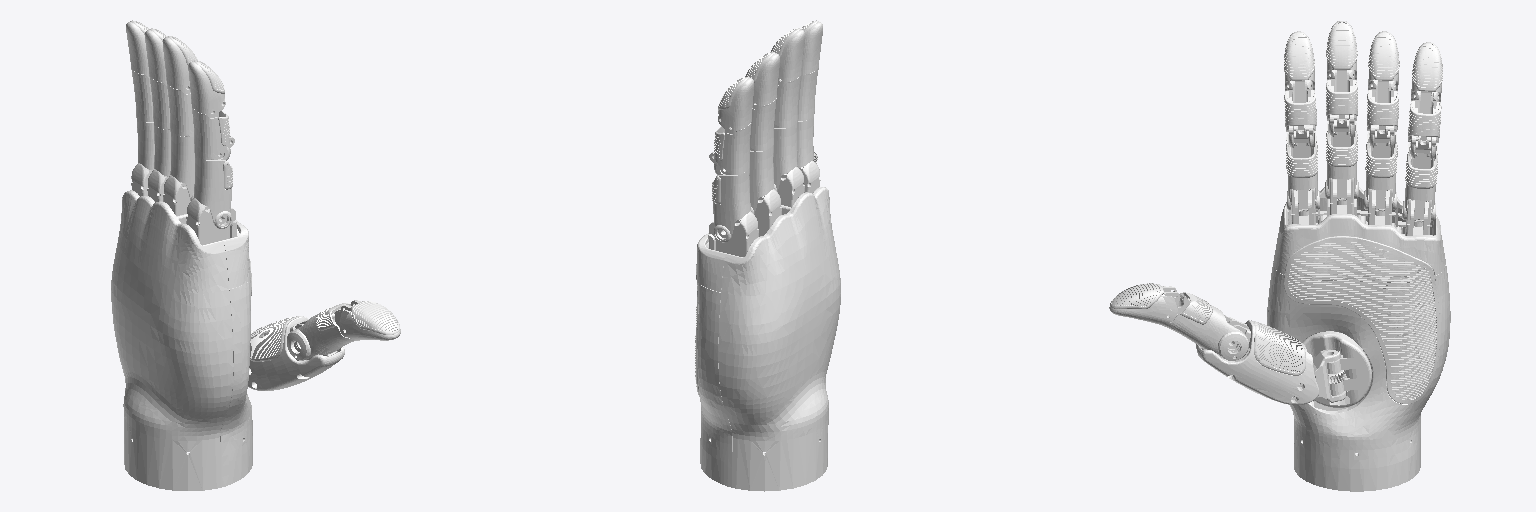
The robot description file, URDF, robot "hand":
<?xml version='1.0' encoding='utf-8'?>
<robot name="hand">
  <link name="lh_hand_base_link">
    <inertial>
      <origin xyz="-0.00378861347432373 0.000820204450131895 0.0805686615689543" rpy="0 0 0" />
      <mass value="0.103652479414672" />
      <inertia ixx="0.000193076183440551" ixy="1.28622350247875e-06" ixz="-2.06064564153793e-07" iyy="0.000129262885172737" iyz="-2.33887125894354e-06" izz="7.7154522927273e-05" />
    </inertial>
    <visual>
      <origin xyz="0 0 0" rpy="0 0 0" />
      <geometry><mesh filename="meshes/visual/lh_hand_base_link_vis.obj" /></geometry>
      <material name=""><color rgba="1 1 1 1" /></material>
    </visual>
    <collision>
      <origin xyz="0 0 0" rpy="0 0 0" />
      <geometry><mesh filename="meshes/visual/lh_hand_base_link_vis.obj" /></geometry>
    </collision>
  </link>
  <link name="lh_thumb_metacarpals_base1">
    <inertial>
      <origin xyz="0.0284841419451473 0.0032328053117659 1.27102541975441e-05" rpy="0 0 0" />
      <mass value="0.00840514828448049" />
      <inertia ixx="1.40225690783513e-06" ixy="1.196162690714e-07" ixz="7.34629714950971e-09" iyy="9.92532738625187e-07" iyz="-4.63982709938509e-08" izz="7.25924523731736e-07" />
    </inertial>
    <visual>
      <origin xyz="0 0 0" rpy="0 0 0" />
      <geometry><mesh filename="meshes/visual/lh_thumb_metacarpals_base1_vis.obj" /></geometry>
      <material name=""><color rgba="1 1 1 1" /></material>
    </visual>
    <collision>
      <origin xyz="0 0 0" rpy="0 0 0" />
      <geometry><mesh filename="meshes/visual/lh_thumb_metacarpals_base1_vis.obj" /></geometry>
    </collision>
  </link>
  <link name="lh_thumb_metacarpals_base2">
    <inertial>
      <origin xyz="0.00149333647480262 -0.00615813217507052 -0.000273768129351912" rpy="0 0 0" />
      <mass value="0.00244725656099355" />
      <inertia ixx="1.15757169903916e-07" ixy="-4.50060051446398e-09" ixz="-9.19744539328016e-10" iyy="9.88121769947347e-08" iyz="3.81969206030993e-09" izz="6.88506418885536e-08" />
    </inertial>
    <visual>
      <origin xyz="0 0 0" rpy="0 0 0" />
      <geometry><mesh filename="meshes/visual/lh_thumb_metacarpals_base2_vis.obj" /></geometry>
      <material name=""><color rgba="1 1 1 1" /></material>
    </visual>
    <collision>
      <origin xyz="0 0 0" rpy="0 0 0" />
      <geometry><mesh filename="meshes/visual/lh_thumb_metacarpals_base2_vis.obj" /></geometry>
    </collision>
  </link>
  <link name="lh_thumb_metacarpals">
    <inertial>
      <origin xyz="0.00183663729904029 3.46162460989133e-06 0.026990412201572" rpy="0 0 0" />
      <mass value="0.0152011788694593" />
      <inertia ixx="2.95369587925714e-06" ixy="4.74536745194236e-11" ixz="-1.58087239939667e-07" iyy="3.84770419198789e-06" iyz="4.13672896569864e-10" izz="1.32008560539723e-06" />
    </inertial>
    <visual>
      <origin xyz="0 0 0" rpy="0 0 0" />
      <geometry><mesh filename="meshes/visual/lh_thumb_metacarpals_vis.obj" /></geometry>
      <material name=""><color rgba="1 1 1 1" /></material>
    </visual>
    <collision>
      <origin xyz="0 0 0" rpy="0 0 0" />
      <geometry><mesh filename="meshes/visual/lh_thumb_metacarpals_vis.obj" /></geometry>
    </collision>
  </link>
  <link name="lh_thumb_proximal">
    <inertial>
      <origin xyz="0.00159260267405223 4.28988976902342e-06 0.0151572309111939" rpy="0 0 0" />
      <mass value="0.00662225085289633" />
      <inertia ixx="1.01526328949763e-06" ixy="-7.87460584199835e-12" ixz="-4.4224308859969e-08" iyy="9.10425089721739e-07" iyz="2.81833762972893e-11" izz="4.47462917464685e-07" />
    </inertial>
    <visual>
      <origin xyz="0 0 0" rpy="0 0 0" />
      <geometry><mesh filename="meshes/visual/lh_thumb_proximal_vis.obj" /></geometry>
      <material name=""><color rgba="1 1 1 1" /></material>
    </visual>
    <collision>
      <origin xyz="0 0 0" rpy="0 0 0" />
      <geometry><mesh filename="meshes/visual/lh_thumb_proximal_vis.obj" /></geometry>
    </collision>
  </link>
  <link name="lh_thumb_distal">
    <inertial>
      <origin xyz="-0.00138833978915306 -1.92768110708619e-06 0.0115764513296314" rpy="0 0 0" />
      <mass value="0.00512798334000111" />
      <inertia ixx="3.30808161248092e-07" ixy="-3.43833611720834e-10" ixz="-1.04696624534012e-07" iyy="3.2363078244428e-07" iyz="-1.18697138701936e-10" izz="2.48875198442135e-07" />
    </inertial>
    <visual>
      <origin xyz="0 0 0" rpy="0 0 0" />
      <geometry><mesh filename="meshes/visual/lh_thumb_distal_vis.obj" /></geometry>
      <material name=""><color rgba="1 1 1 1" /></material>
    </visual>
    <collision>
      <origin xyz="0 0 0" rpy="0 0 0" />
      <geometry><mesh filename="meshes/visual/lh_thumb_distal_vis.obj" /></geometry>
    </collision>
  </link>
  <link name="lh_index_metacarpals">
    <inertial>
      <origin xyz="-0.00143091454702933 2.56878017135254e-07 0.0107040528609869" rpy="0 0 0" />
      <mass value="0.0038877126435198" />
      <inertia ixx="1.87149599832498e-07" ixy="3.67335498441413e-11" ixz="1.3415127653338e-08" iyy="2.75278147668716e-07" iyz="2.44762951204078e-11" izz="2.06866317113344e-07" />
    </inertial>
    <visual>
      <origin xyz="0 0 0" rpy="0 0 0" />
      <geometry><mesh filename="meshes/visual/lh_index_metacarpals_vis.obj" /></geometry>
      <material name=""><color rgba="1 1 1 1" /></material>
    </visual>
    <collision>
      <origin xyz="0 0 0" rpy="0 0 0" />
      <geometry><mesh filename="meshes/visual/lh_index_metacarpals_vis.obj" /></geometry>
    </collision>
  </link>
  <link name="lh_index_proximal">
    <inertial>
      <origin xyz="-0.00122347616770057 -2.04121170566118e-06 0.0182409893195748" rpy="0 0 0" />
      <mass value="0.00316246584579941" />
      <inertia ixx="3.57135128024094e-07" ixy="1.42036124901073e-11" ixz="-4.14209968733606e-08" iyy="3.51905870436209e-07" iyz="-1.08557233942923e-10" izz="1.40872561400322e-07" />
    </inertial>
    <visual>
      <origin xyz="0 0 0" rpy="0 0 0" />
      <geometry><mesh filename="meshes/visual/lh_index_proximal_vis.obj" /></geometry>
      <material name=""><color rgba="1 1 1 1" /></material>
    </visual>
    <collision>
      <origin xyz="0 0 0" rpy="0 0 0" />
      <geometry><mesh filename="meshes/visual/lh_index_proximal_vis.obj" /></geometry>
    </collision>
  </link>
  <link name="lh_index_middle">
    <inertial>
      <origin xyz="-0.00250309203564306 2.18945385091485e-06 0.0110397390913486" rpy="0 0 0" />
      <mass value="0.00283043921422803" />
      <inertia ixx="2.61037133593912e-07" ixy="5.76197451786318e-11" ixz="-4.0011060525121e-08" iyy="2.33077518995487e-07" iyz="-2.86979503467821e-11" izz="1.26543797445814e-07" />
    </inertial>
    <visual>
      <origin xyz="0 0 0" rpy="0 0 0" />
      <geometry><mesh filename="meshes/visual/lh_index_middle_vis.obj" /></geometry>
      <material name=""><color rgba="1 1 1 1" /></material>
    </visual>
    <collision>
      <origin xyz="0 0 0" rpy="0 0 0" />
      <geometry><mesh filename="meshes/visual/lh_index_middle_vis.obj" /></geometry>
    </collision>
  </link>
  <link name="lh_index_distal">
    <inertial>
      <origin xyz="-0.000604509916724614 -4.77400032578013e-06 0.0121511111849248" rpy="0 0 0" />
      <mass value="0.0031445375098231" />
      <inertia ixx="1.64070673729839e-07" ixy="1.88963511473794e-11" ixz="-4.27776869144244e-08" iyy="1.48362830813358e-07" iyz="-1.9734013143508e-10" izz="9.7804088657243e-08" />
    </inertial>
    <visual>
      <origin xyz="0 0 0" rpy="0 0 0" />
      <geometry><mesh filename="meshes/visual/lh_index_distal_vis.obj" /></geometry>
      <material name=""><color rgba="1 1 1 1" /></material>
    </visual>
    <collision>
      <origin xyz="0 0 0" rpy="0 0 0" />
      <geometry><mesh filename="meshes/visual/lh_index_distal_vis.obj" /></geometry>
    </collision>
  </link>
  <link name="lh_middle_proximal">
    <inertial>
      <origin xyz="-0.00123185150819907 -2.04476498746886e-06 0.0182404193627525" rpy="0 0 0" />
      <mass value="0.00316246719662224" />
      <inertia ixx="3.57097075648345e-07" ixy="1.43002807788619e-11" ixz="-4.15201646947523e-08" iyy="3.51905920397223e-07" iyz="-1.08488557665733e-10" izz="1.4091067749978e-07" />
    </inertial>
    <visual>
      <origin xyz="0 0 0" rpy="0 0 0" />
      <geometry><mesh filename="meshes/visual/lh_middle_proximal_vis.obj" /></geometry>
      <material name=""><color rgba="1 1 1 1" /></material>
    </visual>
    <collision>
      <origin xyz="0 0 0" rpy="0 0 0" />
      <geometry><mesh filename="meshes/visual/lh_middle_proximal_vis.obj" /></geometry>
    </collision>
  </link>
  <link name="lh_middle_middle">
    <inertial>
      <origin xyz="-0.00252079729924576 2.18964489481777e-06 0.0110357094277332" rpy="0 0 0" />
      <mass value="0.00283043921858529" />
      <inertia ixx="2.60908423355366e-07" ixy="5.76720293661014e-11" ixz="-4.02265908644236e-08" iyy="2.33077520740401e-07" iyz="-2.86057758459882e-11" izz="1.26672514044425e-07" />
    </inertial>
    <visual>
      <origin xyz="0 0 0" rpy="0 0 0" />
      <geometry><mesh filename="meshes/visual/lh_middle_middle_vis.obj" /></geometry>
      <material name=""><color rgba="1 1 1 1" /></material>
    </visual>
    <collision>
      <origin xyz="0 0 0" rpy="0 0 0" />
      <geometry><mesh filename="meshes/visual/lh_middle_middle_vis.obj" /></geometry>
    </collision>
  </link>
  <link name="lh_middle_distal">
    <inertial>
      <origin xyz="-0.000622397825955366 -4.75569749899818e-06 0.012150171418504" rpy="0 0 0" />
      <mass value="0.00314452092964384" />
      <inertia ixx="1.63942838563309e-07" ixy="1.9526841627913e-11" ixz="-4.28753645610842e-08" iyy="1.48361296215111e-07" iyz="-1.96949597957508e-10" izz="9.7929884595885e-08" />
    </inertial>
    <visual>
      <origin xyz="0 0 0" rpy="0 0 0" />
      <geometry><mesh filename="meshes/visual/lh_middle_distal_vis.obj" /></geometry>
      <material name=""><color rgba="1 1 1 1" /></material>
    </visual>
    <collision>
      <origin xyz="0 0 0" rpy="0 0 0" />
      <geometry><mesh filename="meshes/visual/lh_middle_distal_vis.obj" /></geometry>
    </collision>
  </link>
  <link name="lh_ring_metacarpals">
    <inertial>
      <origin xyz="-0.00143091448892014 6.05495226457808e-07 0.0107040523320813" rpy="0 0 0" />
      <mass value="0.00388771255966599" />
      <inertia ixx="1.87149578481638e-07" ixy="1.52642675041227e-11" ixz="1.34151349601248e-08" iyy="2.75278155094349e-07" iyz="2.12062463357117e-11" izz="2.06866318930306e-07" />
    </inertial>
    <visual>
      <origin xyz="0 0 0" rpy="0 0 0" />
      <geometry><mesh filename="meshes/visual/lh_ring_metacarpals_vis.obj" /></geometry>
      <material name=""><color rgba="1 1 1 1" /></material>
    </visual>
    <collision>
      <origin xyz="0 0 0" rpy="0 0 0" />
      <geometry><mesh filename="meshes/visual/lh_ring_metacarpals_vis.obj" /></geometry>
    </collision>
  </link>
  <link name="lh_ring_proximal">
    <inertial>
      <origin xyz="-0.00122347652312429 -2.0423407393888e-06 0.0182409875332818" rpy="0 0 0" />
      <mass value="0.00316246660225829" />
      <inertia ixx="3.5713512847731e-07" ixy="1.42130904393983e-11" ixz="-4.14209983311065e-08" iyy="3.51905881089114e-07" iyz="-1.08576103054512e-10" izz="1.40872582931496e-07" />
    </inertial>
    <visual>
      <origin xyz="0 0 0" rpy="0 0 0" />
      <geometry><mesh filename="meshes/visual/lh_ring_proximal_vis.obj" /></geometry>
      <material name=""><color rgba="1 1 1 1" /></material>
    </visual>
    <collision>
      <origin xyz="0 0 0" rpy="0 0 0" />
      <geometry><mesh filename="meshes/visual/lh_ring_proximal_vis.obj" /></geometry>
    </collision>
  </link>
  <link name="lh_ring_middle">
    <inertial>
      <origin xyz="-0.00250309189885196 2.18959036171751e-06 0.0110397385966097" rpy="0 0 0" />
      <mass value="0.00283043920090097" />
      <inertia ixx="2.61037130501287e-07" ixy="5.76216047828233e-11" ixz="-4.00110582573436e-08" iyy="2.33077521207674e-07" iyz="-2.86985395311388e-11" izz="1.26543807918808e-07" />
    </inertial>
    <visual>
      <origin xyz="0 0 0" rpy="0 0 0" />
      <geometry><mesh filename="meshes/visual/lh_ring_middle_vis.obj" /></geometry>
      <material name=""><color rgba="1 1 1 1" /></material>
    </visual>
    <collision>
      <origin xyz="0 0 0" rpy="0 0 0" />
      <geometry><mesh filename="meshes/visual/lh_ring_middle_vis.obj" /></geometry>
    </collision>
  </link>
  <link name="lh_ring_distal">
    <inertial>
      <origin xyz="-0.000604497650389674 -4.73100652065295e-06 0.012151126431567" rpy="0 0 0" />
      <mass value="0.00314454943731604" />
      <inertia ixx="1.64071049652571e-07" ixy="1.94791513771428e-11" ixz="-4.27777374237679e-08" iyy="1.48363091013624e-07" iyz="-1.96468435398403e-10" izz="9.78042601257212e-08" />
    </inertial>
    <visual>
      <origin xyz="0 0 0" rpy="0 0 0" />
      <geometry><mesh filename="meshes/visual/lh_ring_distal_vis.obj" /></geometry>
      <material name=""><color rgba="1 1 1 1" /></material>
    </visual>
    <collision>
      <origin xyz="0 0 0" rpy="0 0 0" />
      <geometry><mesh filename="meshes/visual/lh_ring_distal_vis.obj" /></geometry>
    </collision>
  </link>
  <link name="lh_pinky_metacarpals">
    <inertial>
      <origin xyz="-0.00143091630673887 6.05311374107798e-07 0.010704049929046" rpy="0 0 0" />
      <mass value="0.00388771229554929" />
      <inertia ixx="1.87149536268889e-07" ixy="1.52679681737727e-11" ixz="1.34151204706615e-08" iyy="2.75278106047772e-07" iyz="2.11967245454867e-11" izz="2.06866328803883e-07" />
    </inertial>
    <visual>
      <origin xyz="0 0 0" rpy="0 0 0" />
      <geometry><mesh filename="meshes/visual/lh_pinky_metacarpals_vis.obj" /></geometry>
      <material name=""><color rgba="1 1 1 1" /></material>
    </visual>
    <collision>
      <origin xyz="0 0 0" rpy="0 0 0" />
      <geometry><mesh filename="meshes/visual/lh_pinky_metacarpals_vis.obj" /></geometry>
    </collision>
  </link>
  <link name="lh_pinky_proximal">
    <inertial>
      <origin xyz="-0.00122347805395697 -2.04329569369888e-06 0.0182409919418033" rpy="0 0 0" />
      <mass value="0.00316246781629033" />
      <inertia ixx="3.57135263144139e-07" ixy="1.42286998987323e-11" ixz="-4.14209901998364e-08" iyy="3.5190602349514e-07" iyz="-1.08636442666922e-10" izz="1.40872647811026e-07" />
    </inertial>
    <visual>
      <origin xyz="0 0 0" rpy="0 0 0" />
      <geometry><mesh filename="meshes/visual/lh_pinky_proximal_vis.obj" /></geometry>
      <material name=""><color rgba="1 1 1 1" /></material>
    </visual>
    <collision>
      <origin xyz="0 0 0" rpy="0 0 0" />
      <geometry><mesh filename="meshes/visual/lh_pinky_proximal_vis.obj" /></geometry>
    </collision>
  </link>
  <link name="lh_pinky_middle">
    <inertial>
      <origin xyz="-0.00250309214140259 2.1894783039933e-06 0.0110397383273556" rpy="0 0 0" />
      <mass value="0.00283043906989622" />
      <inertia ixx="2.61037124783617e-07" ixy="5.7617222079153e-11" ixz="-4.00110565109454e-08" iyy="2.33077513229909e-07" iyz="-2.86988443315275e-11" izz="1.2654380297458e-07" />
    </inertial>
    <visual>
      <origin xyz="0 0 0" rpy="0 0 0" />
      <geometry><mesh filename="meshes/visual/lh_pinky_middle_vis.obj" /></geometry>
      <material name=""><color rgba="1 1 1 1" /></material>
    </visual>
    <collision>
      <origin xyz="0 0 0" rpy="0 0 0" />
      <geometry><mesh filename="meshes/visual/lh_pinky_middle_vis.obj" /></geometry>
    </collision>
  </link>
  <link name="lh_pinky_distal">
    <inertial>
      <origin xyz="-0.000604492895887754 -4.75263680191351e-06 0.0121511379180032" rpy="0 0 0" />
      <mass value="0.00314455887032079" />
      <inertia ixx="1.64071496633017e-07" ixy="1.95563986835622e-11" ixz="-4.27779200959899e-08" iyy="1.48363675410427e-07" iyz="-1.9679860568024e-10" izz="9.78043717695209e-08" />
    </inertial>
    <visual>
      <origin xyz="0 0 0" rpy="0 0 0" />
      <geometry><mesh filename="meshes/visual/lh_pinky_distal_vis.obj" /></geometry>
      <material name=""><color rgba="1 1 1 1" /></material>
    </visual>
    <collision>
      <origin xyz="0 0 0" rpy="0 0 0" />
      <geometry><mesh filename="meshes/visual/lh_pinky_distal_vis.obj" /></geometry>
    </collision>
  </link>
  <joint name="lh_thumb_cmc_roll" type="revolute">
    <origin xyz="-0.013419 -0.012551 0.060602" rpy="0 0 0" />
    <parent link="lh_hand_base_link" />
    <child link="lh_thumb_metacarpals_base1" />
    <axis xyz="-0.99996 0 -0.0087265" />
    <limit lower="0" upper="1.03" effort="4.8" velocity="1" />
  </joint>
  <joint name="lh_thumb_cmc_yaw" type="revolute">
    <origin xyz="0.035797 0.00065879 0.00045944" rpy="0.13232 -0.0087266 0" />
    <parent link="lh_thumb_metacarpals_base1" />
    <child link="lh_thumb_metacarpals_base2" />
    <axis xyz="0 0.087156 0.99619" />
    <limit lower="0" upper="1.4" effort="4.8" velocity="1" />
  </joint>
  <joint name="lh_thumb_cmc_pitch" type="revolute">
    <origin xyz="0.0036974 -0.015398 -0.0019891" rpy="0 -0.9163 1.8064" />
    <parent link="lh_thumb_metacarpals_base2" />
    <child link="lh_thumb_metacarpals" />
    <axis xyz="0 1 0" />
    <limit lower="0" upper="0.52" effort="4.8" velocity="1" />
  </joint>
  <joint name="lh_thumb_mcp" type="revolute">
    <origin xyz="0.0061722 0 0.047968" rpy="0 0 0" />
    <parent link="lh_thumb_metacarpals" />
    <child link="lh_thumb_proximal" />
    <axis xyz="0 1 0" />
    <limit lower="0" upper="0.72" effort="3.7" velocity="1" />
    <mimic joint="lh_thumb_cmc_pitch" multiplier="1.38" offset="0" />
  </joint>
  <joint name="lh_thumb_ip" type="revolute">
    <origin xyz="-0.00017064 0 0.038665" rpy="0 0 0" />
    <parent link="lh_thumb_proximal" />
    <child link="lh_thumb_distal" />
    <axis xyz="0 1 0" />
    <limit lower="0" upper="0.78" effort="3.36" velocity="1" />
    <mimic joint="lh_thumb_cmc_pitch" multiplier="1.49" offset="0" />
  </joint>
  <joint name="lh_index_mcp_roll" type="revolute">
    <origin xyz="-0.0021643 -0.026654 0.13253" rpy="0.027927 -0.0087198 -0.00024358" />
    <parent link="lh_hand_base_link" />
    <child link="lh_index_metacarpals" />
    <axis xyz="1 0.00024367 0" />
    <limit lower="0" upper="0.19" effort="4.29" velocity="1" />
  </joint>
  <joint name="lh_index_mcp_pitch" type="revolute">
    <origin xyz="0.0022097 0 0.015275" rpy="0 0 0.00024367" />
    <parent link="lh_index_metacarpals" />
    <child link="lh_index_proximal" />
    <axis xyz="0 1 0" />
    <limit lower="0" upper="1.36" effort="4.8" velocity="1" />
  </joint>
  <joint name="lh_index_pip" type="revolute">
    <origin xyz="-0.0010697 0 0.035634" rpy="0 0 0" />
    <parent link="lh_index_proximal" />
    <child link="lh_index_middle" />
    <axis xyz="0 1 0" />
    <limit lower="0" upper="1.78" effort="3.7" velocity="1" />
    <mimic joint="lh_index_mcp_pitch" multiplier="1.3" offset="0" />
  </joint>
  <joint name="lh_index_dip" type="revolute">
    <origin xyz="-0.0052444 0 0.025711" rpy="0 0 0" />
    <parent link="lh_index_middle" />
    <child link="lh_index_distal" />
    <axis xyz="0 1 0" />
    <limit lower="0" upper="0.62" effort="10.43" velocity="1" />
    <mimic joint="lh_index_mcp_pitch" multiplier="0.46" offset="0" />
  </joint>
  <joint name="lh_middle_mcp_pitch" type="revolute">
    <origin xyz="-0.0021316 -0.0076542 0.15281" rpy="0 -0.0087266 0" />
    <parent link="lh_hand_base_link" />
    <child link="lh_middle_proximal" />
    <axis xyz="0 1 0" />
    <limit lower="0" upper="1.36" effort="4.8" velocity="1" />
  </joint>
  <joint name="lh_middle_pip" type="revolute">
    <origin xyz="-0.0010861 0 0.035634" rpy="0 0 0" />
    <parent link="lh_middle_proximal" />
    <child link="lh_middle_middle" />
    <axis xyz="0 1 0" />
    <limit lower="0" upper="1.78" effort="3.7" velocity="1" />
    <mimic joint="lh_middle_mcp_pitch" multiplier="1.3" offset="0" />
  </joint>
  <joint name="lh_middle_dip" type="revolute">
    <origin xyz="-0.0052857 0 0.025703" rpy="0 0 0" />
    <parent link="lh_middle_middle" />
    <child link="lh_middle_distal" />
    <axis xyz="0 1 0" />
    <limit lower="0" upper="0.62" effort="10.43" velocity="1" />
    <mimic joint="lh_middle_mcp_pitch" multiplier="0.46" offset="0" />
  </joint>
  <joint name="lh_ring_mcp_roll" type="revolute">
    <origin xyz="-0.0021643 0.011346 0.13253" rpy="-0.024435 -0.0087266 0" />
    <parent link="lh_hand_base_link" />
    <child link="lh_ring_metacarpals" />
    <axis xyz="-1 0 0" />
    <limit lower="0" upper="0.2" effort="4.29" velocity="1" />
  </joint>
  <joint name="lh_ring_mcp_pitch" type="revolute">
    <origin xyz="0.0022097 0 0.015275" rpy="0 0 0" />
    <parent link="lh_ring_metacarpals" />
    <child link="lh_ring_proximal" />
    <axis xyz="0 1 0" />
    <limit lower="0" upper="1.36" effort="4.8" velocity="1" />
  </joint>
  <joint name="lh_ring_pip" type="revolute">
    <origin xyz="-0.0010697 0 0.035634" rpy="0 0 0" />
    <parent link="lh_ring_proximal" />
    <child link="lh_ring_middle" />
    <axis xyz="0 1 0" />
    <limit lower="0" upper="1.78" effort="3.7" velocity="1" />
    <mimic joint="lh_ring_mcp_pitch" multiplier="1.3" offset="0" />
  </joint>
  <joint name="lh_ring_dip" type="revolute">
    <origin xyz="-0.0052444 0 0.025711" rpy="0 0 0" />
    <parent link="lh_ring_middle" />
    <child link="lh_ring_distal" />
    <axis xyz="0 1 0" />
    <limit lower="0" upper="0.62" effort="10.43" velocity="1" />
    <mimic joint="lh_ring_mcp_pitch" multiplier="0.46" offset="0" />
  </joint>
  <joint name="lh_pinky_mcp_roll" type="revolute">
    <origin xyz="-0.00012074 0.030346 0.12755" rpy="-0.057596 -0.0087266 0" />
    <parent link="lh_hand_base_link" />
    <child link="lh_pinky_metacarpals" />
    <axis xyz="-1 0 0" />
    <limit lower="0" upper="0.3" effort="4.29" velocity="1" />
  </joint>
  <joint name="lh_pinky_mcp_pitch" type="revolute">
    <origin xyz="0.0022097 0 0.015275" rpy="0 0 0" />
    <parent link="lh_pinky_metacarpals" />
    <child link="lh_pinky_proximal" />
    <axis xyz="0 1 0" />
    <limit lower="0" upper="1.36" effort="4.8" velocity="1" />
  </joint>
  <joint name="lh_pinky_pip" type="revolute">
    <origin xyz="-0.0010697 0 0.035634" rpy="0 0 0" />
    <parent link="lh_pinky_proximal" />
    <child link="lh_pinky_middle" />
    <axis xyz="0 1 0" />
    <limit lower="0" upper="1.78" effort="3.7" velocity="1" />
    <mimic joint="lh_pinky_mcp_pitch" multiplier="1.3" offset="0" />
  </joint>
  <joint name="lh_pinky_dip" type="revolute">
    <origin xyz="-0.0052444 0 0.025711" rpy="0 0 0" />
    <parent link="lh_pinky_middle" />
    <child link="lh_pinky_distal" />
    <axis xyz="0 1 0" />
    <limit lower="0" upper="0.62" effort="10.43" velocity="1" />
    <mimic joint="lh_pinky_mcp_pitch" multiplier="0.46" offset="0" />
  </joint>
</robot>

--- Facts derived from the render (not from the file) ---
3 views of the same robot in one strip: view 1: azimuth 30°, elevation 25°; view 2: azimuth 150°, elevation 25°; view 3: azimuth 270°, elevation 25° (orthographic).
Model hand with 21 links and 20 joints (20 revolute), rooted at lh_hand_base_link, posed all joints at 0.
Visible links, largest first — view 1: lh_hand_base_link, lh_thumb_metacarpals, lh_thumb_proximal, lh_index_proximal, lh_thumb_distal, lh_index_middle, lh_index_distal, lh_index_metacarpals, lh_middle_distal, lh_middle_proximal, lh_middle_middle, lh_pinky_distal (+5 smaller); view 2: lh_hand_base_link, lh_pinky_proximal, lh_pinky_middle, lh_pinky_distal, lh_ring_distal, lh_middle_distal, lh_pinky_metacarpals, lh_ring_proximal, lh_middle_proximal, lh_ring_middle, lh_middle_middle, lh_index_distal (+3 smaller); view 3: lh_hand_base_link, lh_thumb_metacarpals, lh_thumb_proximal, lh_thumb_metacarpals_base1, lh_thumb_distal, lh_middle_proximal, lh_pinky_proximal, lh_index_proximal, lh_ring_proximal, lh_pinky_middle, lh_middle_middle, lh_ring_middle (+9 smaller).
Link boxes in pixels (x1,y1,x2,y2): lh_hand_base_link: (111,175,252,490); lh_thumb_metacarpals: (248,316,344,390); lh_thumb_proximal: (287,303,353,360); lh_index_proximal: (194,154,232,228); lh_thumb_distal: (339,300,400,340); lh_index_middle: (192,108,234,160); lh_index_distal: (188,60,225,117); lh_index_metacarpals: (186,198,236,244); lh_middle_distal: (163,36,197,93); lh_middle_proximal: (170,130,194,200); lh_middle_middle: (167,84,193,136); lh_pinky_distal: (126,20,149,78); lh_hand_base_link: (695,167,840,491); lh_pinky_proximal: (712,168,750,242); lh_pinky_middle: (709,122,751,175); lh_pinky_distal: (718,77,753,133); lh_ring_distal: (745,52,779,109); lh_middle_distal: (771,28,804,85); lh_pinky_metacarpals: (708,211,758,256); lh_ring_proximal: (749,145,773,214); lh_middle_proximal: (773,122,797,191); lh_ring_middle: (750,98,776,151); lh_middle_middle: (774,76,800,127); lh_index_distal: (801,20,822,77); lh_hand_base_link: (1267,178,1450,491); lh_thumb_metacarpals: (1196,319,1318,404); lh_thumb_proximal: (1162,292,1248,360); lh_thumb_metacarpals_base1: (1302,331,1371,407); lh_thumb_distal: (1109,283,1180,324); lh_middle_proximal: (1325,115,1358,200); lh_pinky_proximal: (1402,136,1437,222); lh_index_proximal: (1286,125,1319,211); lh_ring_proximal: (1364,125,1397,211); lh_pinky_middle: (1408,91,1441,159); lh_middle_middle: (1326,70,1357,137); lh_ring_middle: (1367,80,1398,147).
Bounding box of the posed robot: 0.0852 × 0.1718 × 0.2403 m (x, y, z).
21 mesh visuals loaded from 21 distinct referenced files (21 OBJ).
